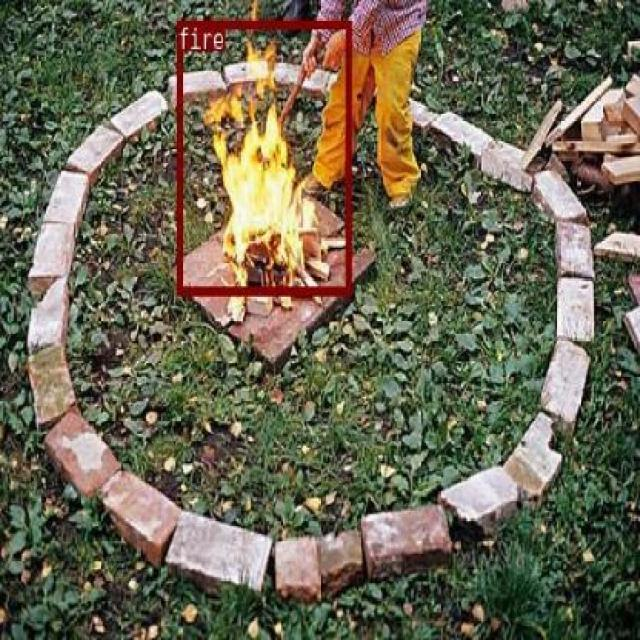Fire: (174, 156, 263, 274)
